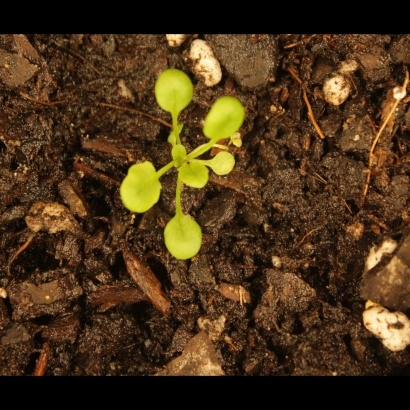leaf: (117, 156, 165, 216), (152, 69, 200, 119), (204, 91, 247, 146), (161, 214, 208, 260), (175, 159, 213, 192), (207, 149, 242, 182), (161, 138, 191, 163)
